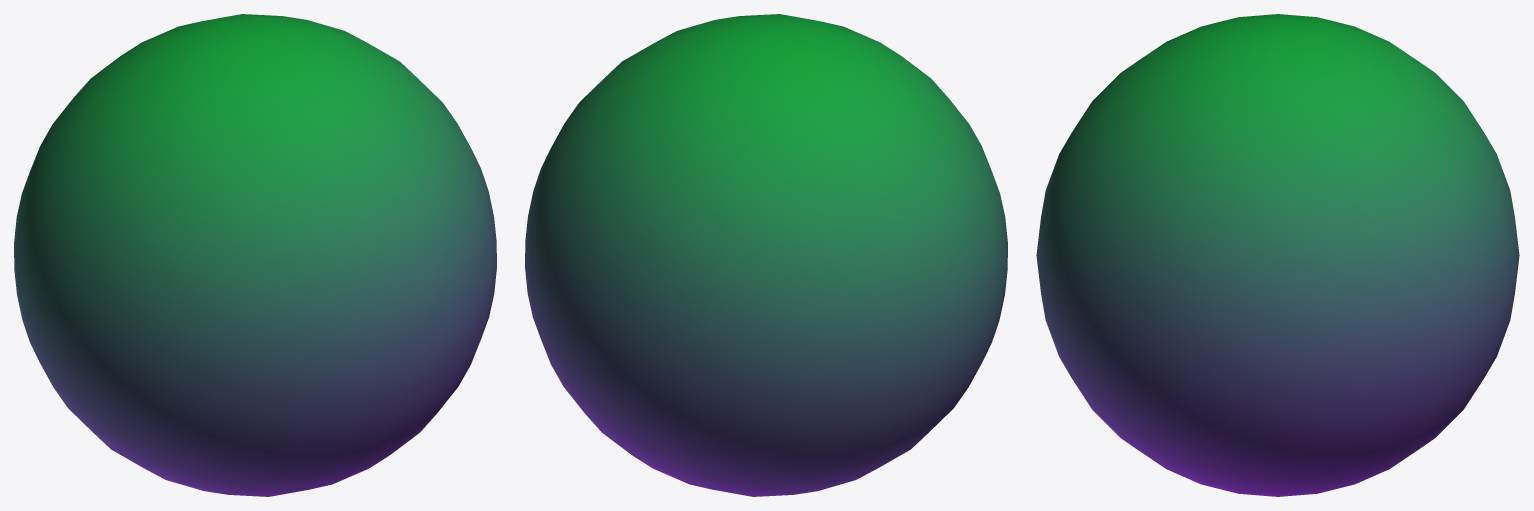
File: alphablendsphere.fbx
3 views of the same model, side by side, from view 1: azimuth 30°, elevation 25°; view 2: azimuth 150°, elevation 25°; view 3: azimuth 270°, elevation 25° (orthographic).
Parts seen in each view (by area): view 1: Sphere; view 2: Sphere; view 3: Sphere.
Part boxes in pixels (x1=…): Sphere: x1=14, y1=14, x2=496, y2=496; Sphere: x1=525, y1=14, x2=1007, y2=496; Sphere: x1=1036, y1=14, x2=1519, y2=496.
Size of the model in its own units: 200 by 200 by 200.
